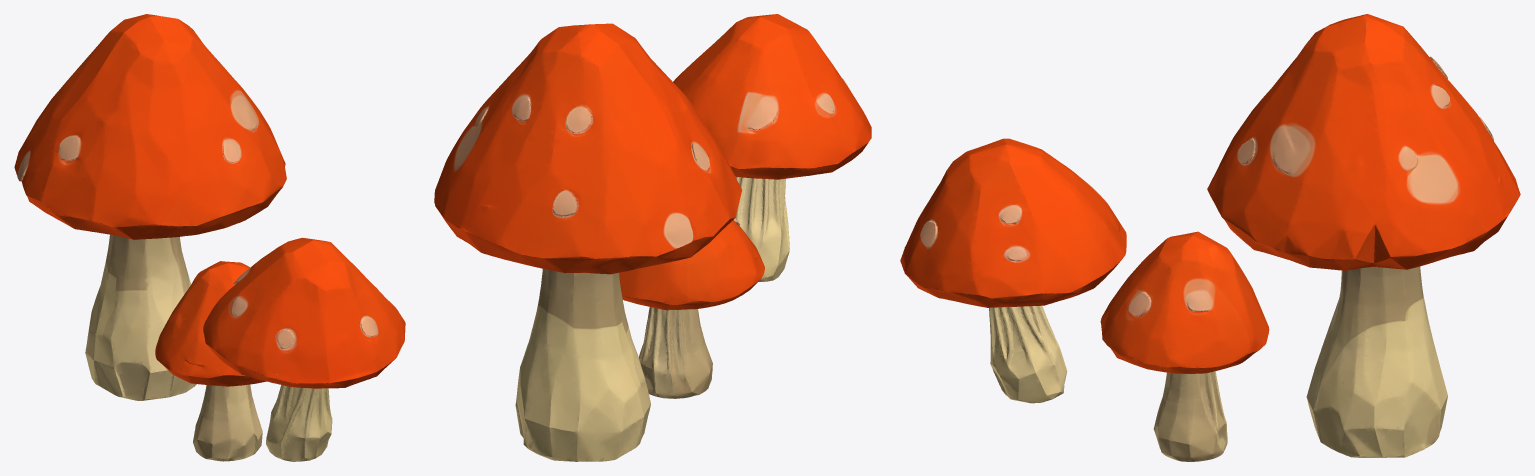
The model's file is base_basic_pbr.fbx.
3 renders of one model, left to right at view 1: azimuth 30°, elevation 25°; view 2: azimuth 150°, elevation 25°; view 3: azimuth 270°, elevation 25°, orthographic. The views are drawn at different scales.
Parts seen in each view (by area): view 1: geometry_0; view 2: geometry_0; view 3: geometry_0.
Boxes of the visible parts, x1,y1,x2,y2 form: geometry_0: [14, 14, 405, 461]; geometry_0: [434, 14, 871, 461]; geometry_0: [900, 14, 1520, 461].
Size of the model in its own units: 95.84 by 147 by 190.
1 material, 1 textured.
